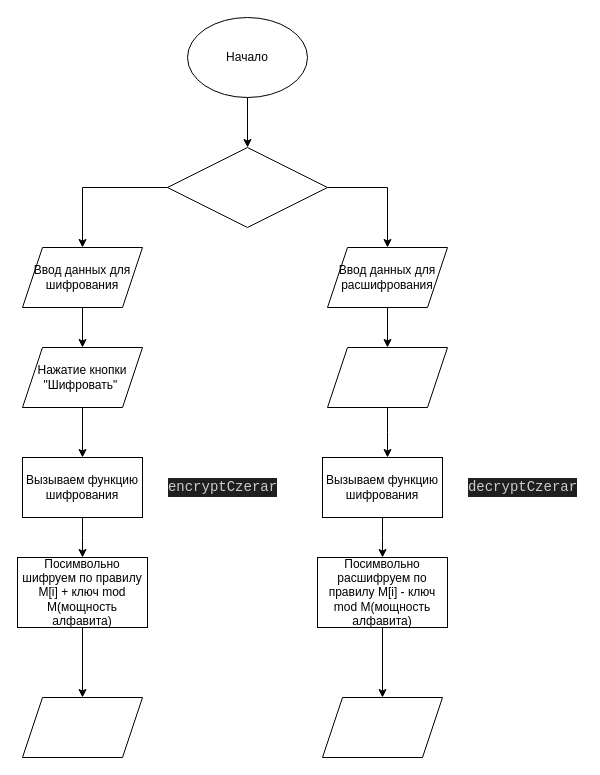
This 600x775 diagram has some shape labels left out. Here are the shapes that lost their labels. From the top down, the box of each, then its label:
(166, 146, 328, 228): Выбор дальнейшего действия
(326, 346, 448, 408): Нажатие кнопки "Расшифровать"
(22, 696, 142, 758): Выводим зашифрованное сообщение
(322, 696, 442, 758): Выводим расшифрованное сообщение
